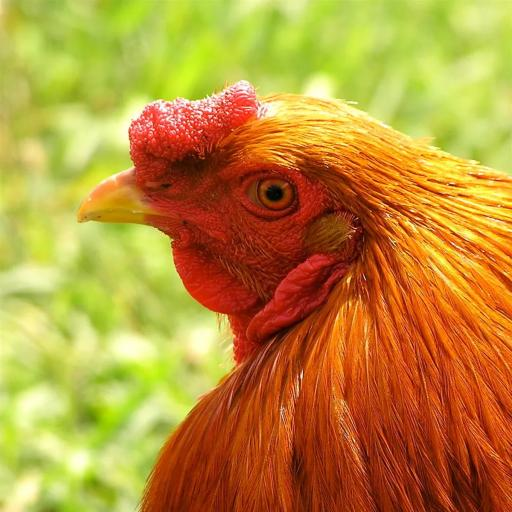healthy: (96, 44, 358, 343)
